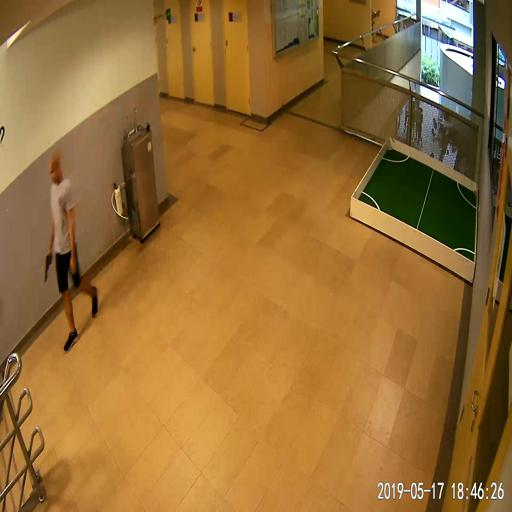pistol: (44, 250, 52, 282)
